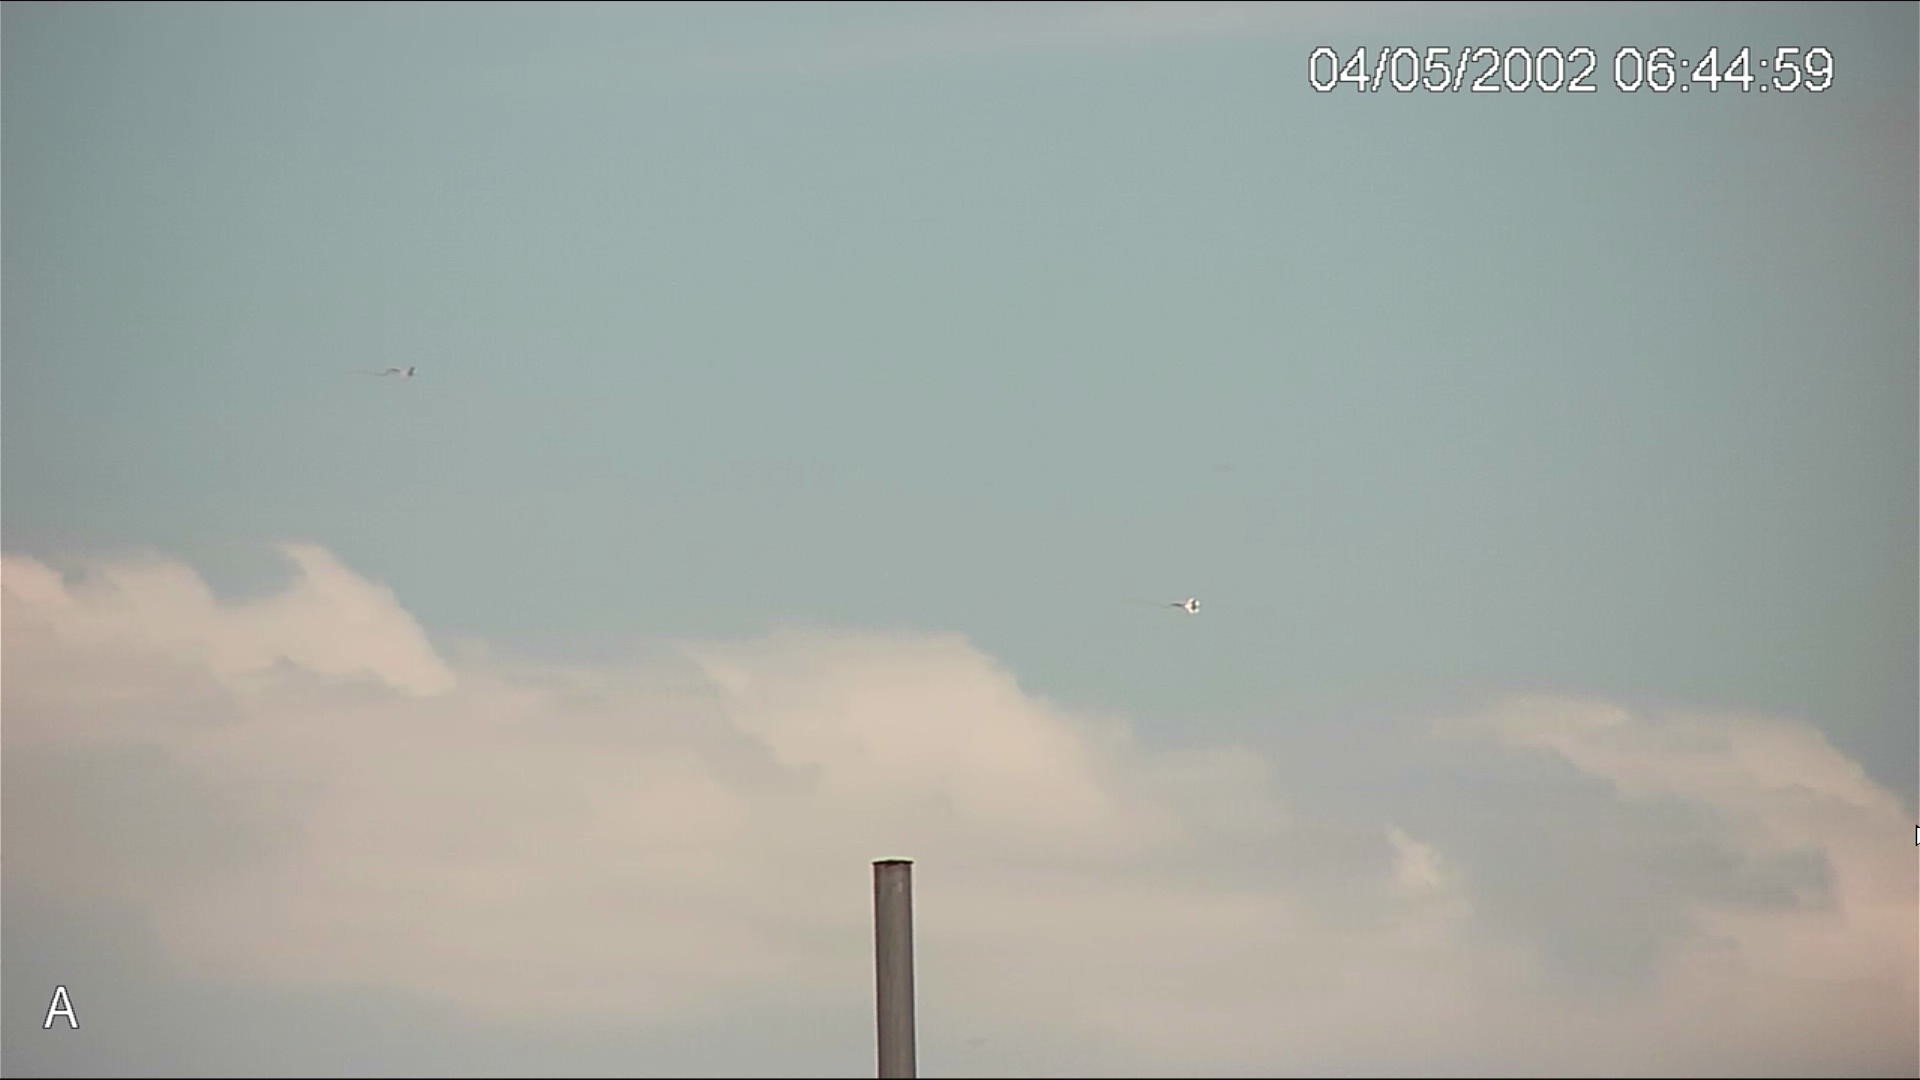SU_30: (1171, 593, 1200, 615), (386, 365, 419, 381)
